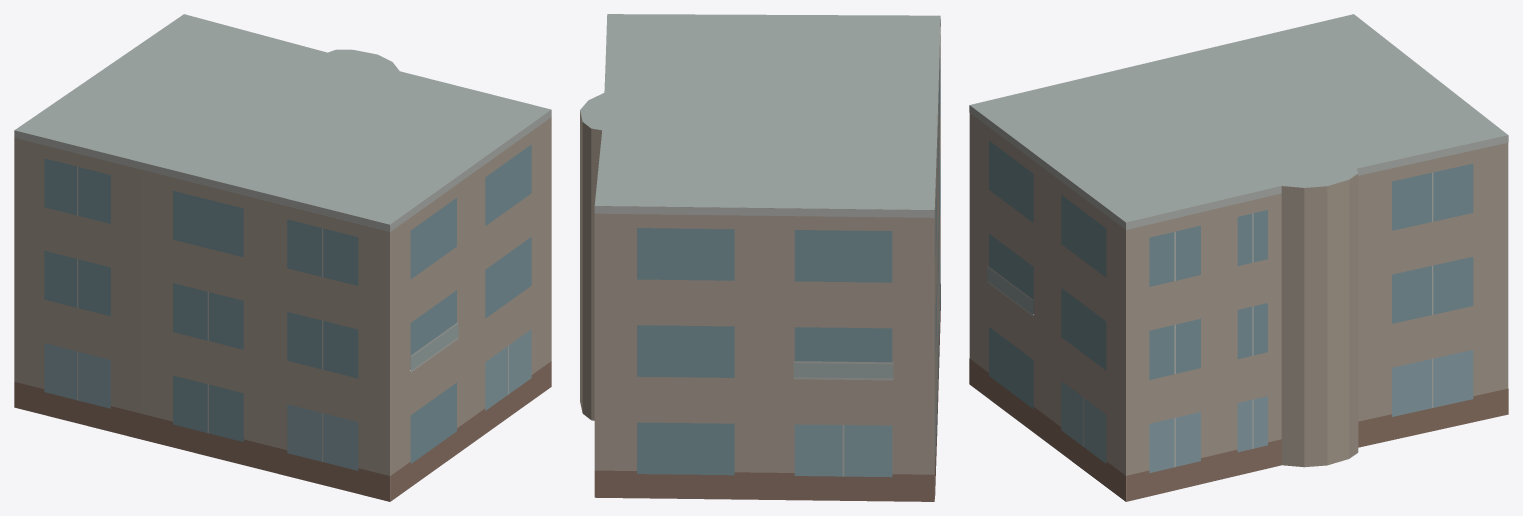
Rendered from survey-upis-32704870.glb.
3 renders of one model, left to right at view 1: azimuth 30°, elevation 25°; view 2: azimuth 150°, elevation 25°; view 3: azimuth 270°, elevation 25°, orthographic. The views are drawn at different scales.
Visible parts, largest first — view 1: survey-upis-32704870.tmp; view 2: survey-upis-32704870.tmp; view 3: survey-upis-32704870.tmp.
Part boxes in pixels (x1,y1,x2,y2): survey-upis-32704870.tmp: (14,14,551,501); survey-upis-32704870.tmp: (580,14,940,501); survey-upis-32704870.tmp: (969,14,1508,501).
Size of the model in its own units: 14.66 by 9.15 by 16.01.
